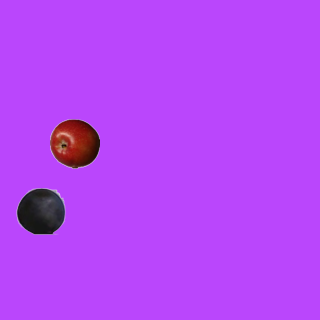Apple Braeburn: (49, 118, 99, 168)
Grape Blue: (15, 185, 65, 235)
